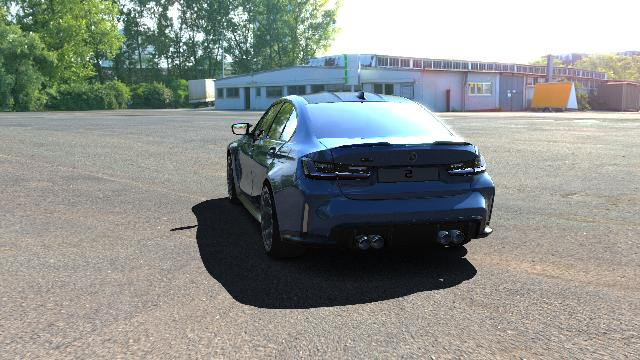License Plate: (377, 164, 438, 184)
